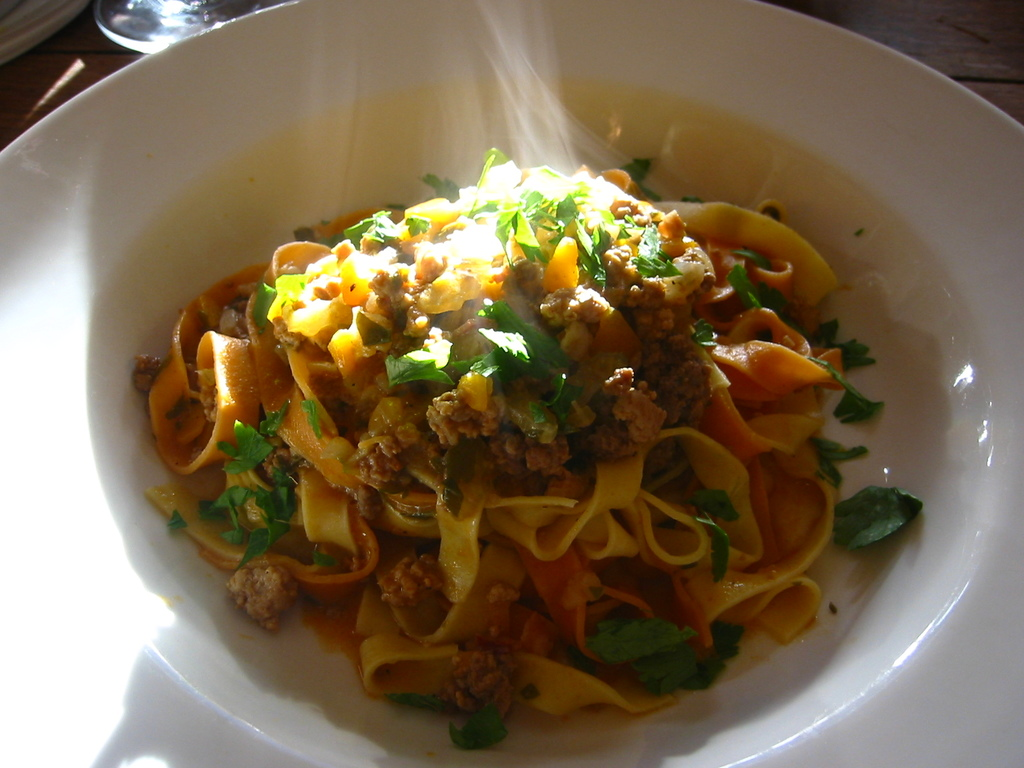pasta: (130, 144, 922, 752)
